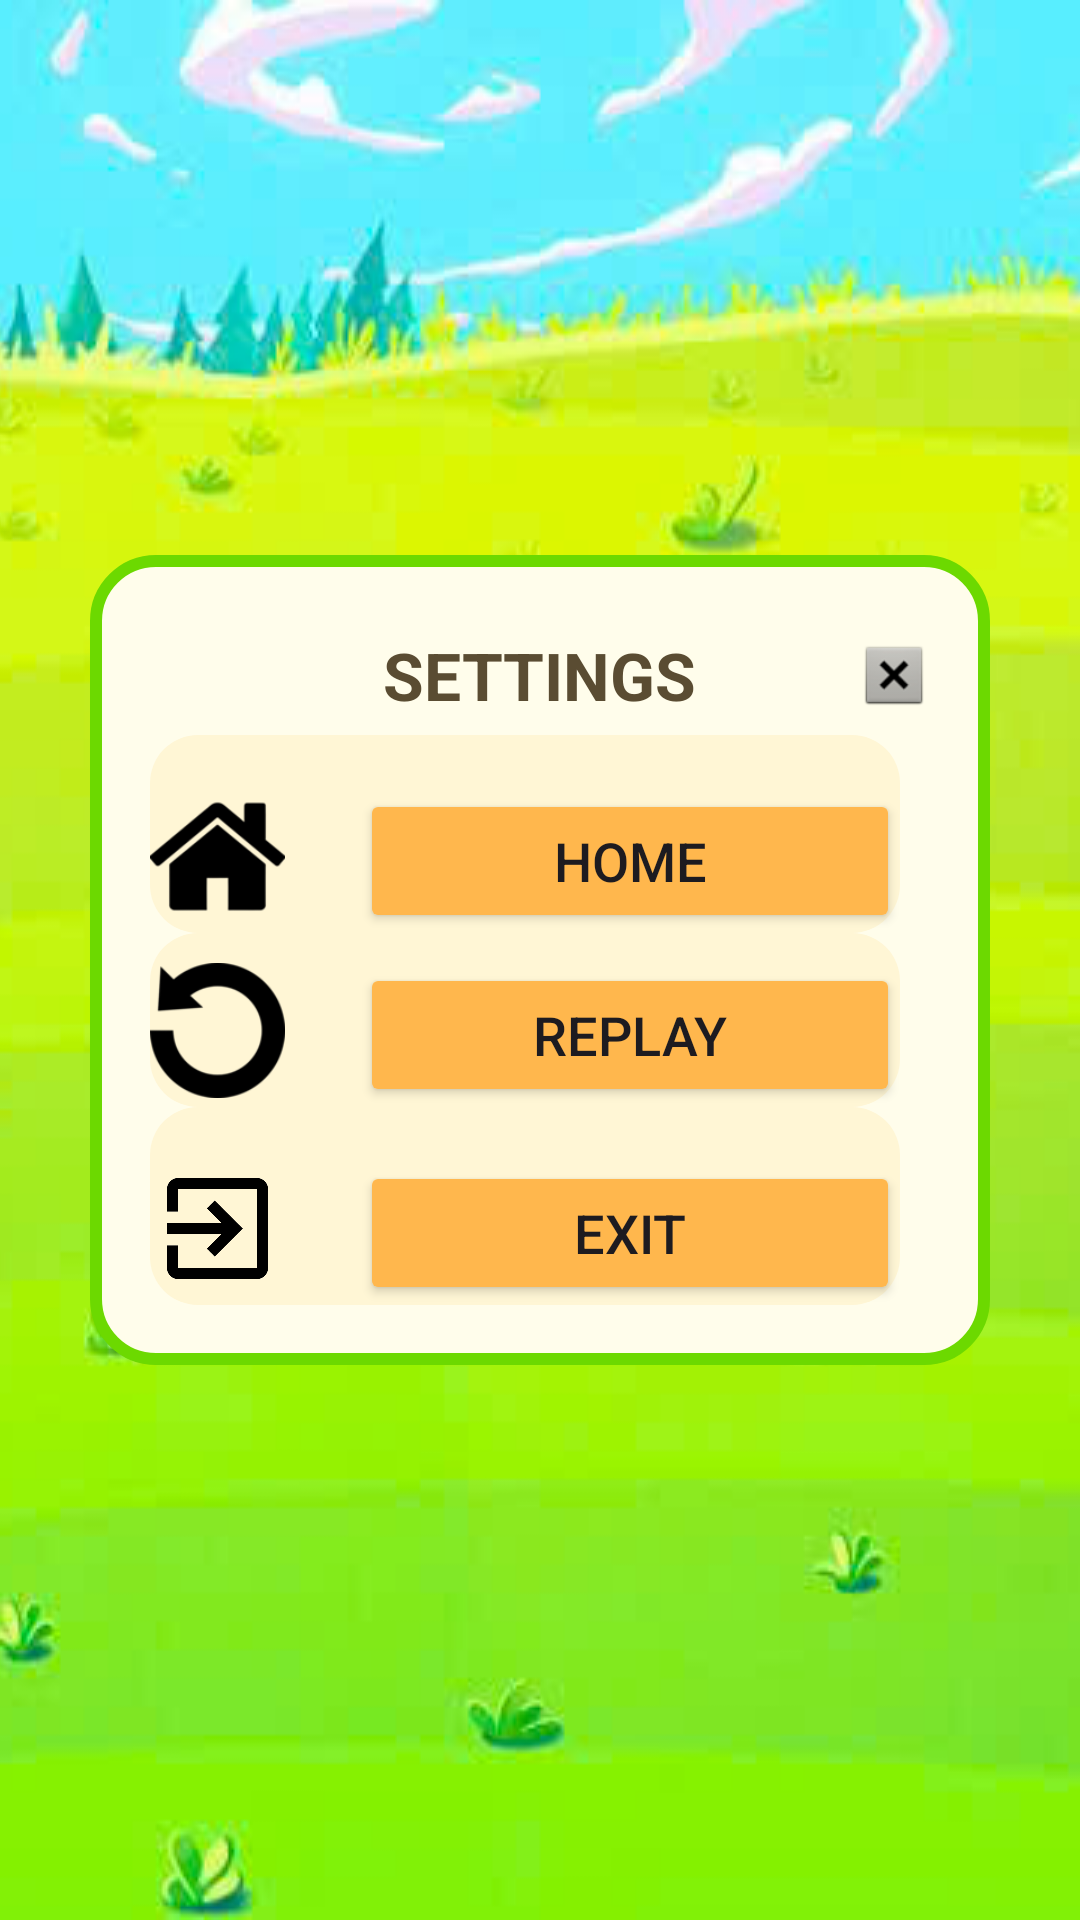

Point at icon controls on the screen. Image size 1080px x 1920px, points as [x,y].
Close: [894,676]
